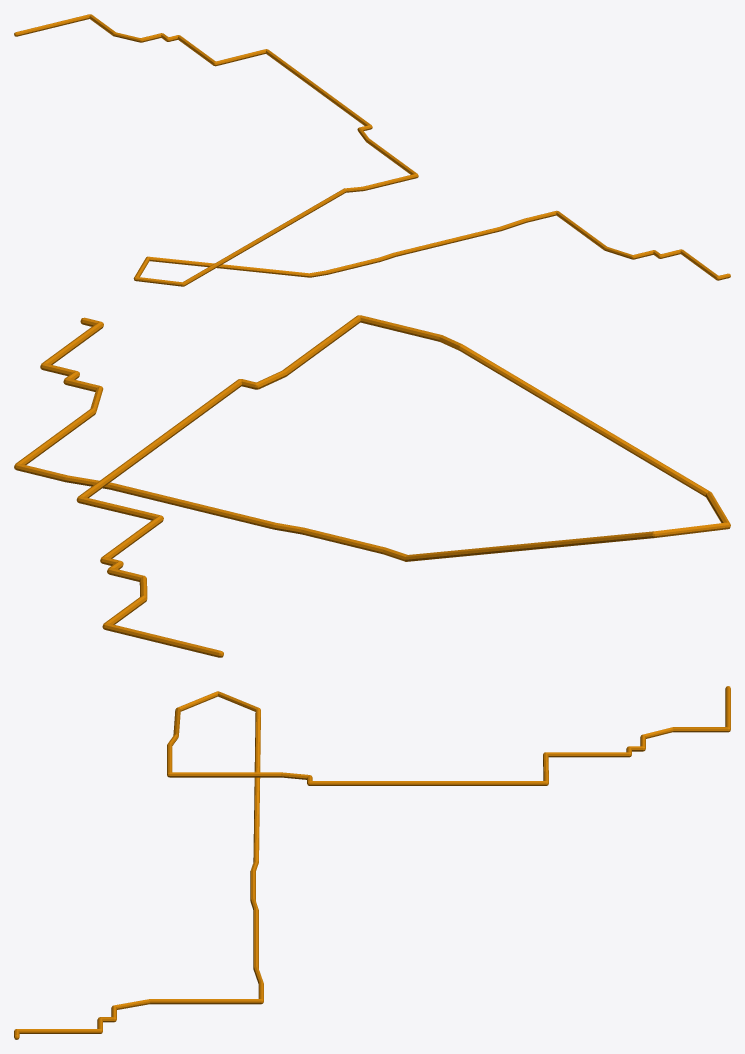
3 views of the same model, one above another, from view 1: azimuth 30°, elevation 25°; view 2: azimuth 150°, elevation 25°; view 3: azimuth 270°, elevation 25° (orthographic). The views are drawn at different scales.
Bounding box in the file's own units: 2406 × 520 × 2577.
